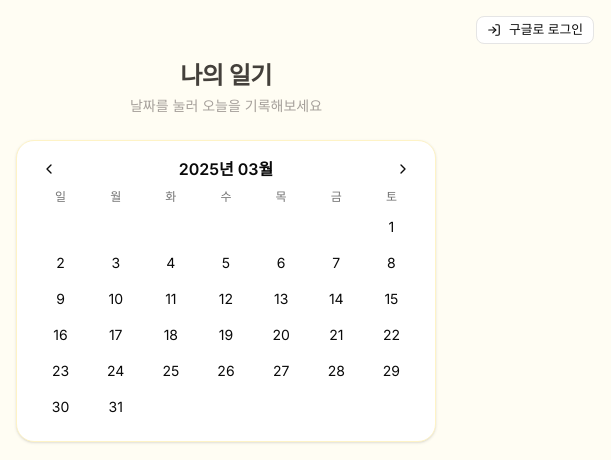
Test case: DIARY-011: 캘린더 이전/다음 월 이동 › 3월 캘린더에서 이전 달 버튼을 클릭하면 2월 캘린더로 전환되고 2025-02-14에 dot 표시가 나타난다
// 이전 달 버튼 클릭
Click the button named "이전" at (49, 169), box x1=37 y1=157 x2=61 y2=181
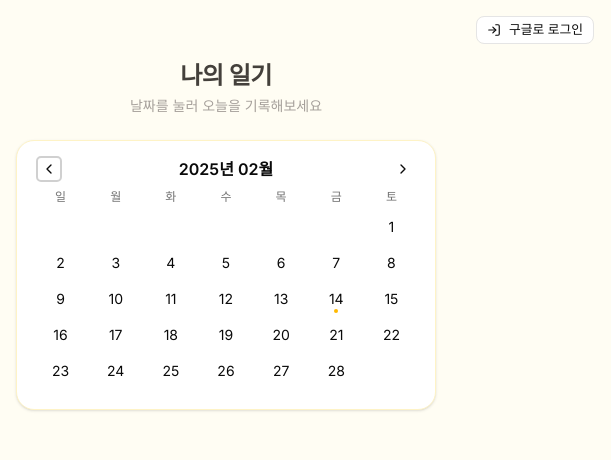
Expected: the text "2025년 02월" is shown, x1=179 y1=157 x2=273 y2=181
Expected: the element with test id "diary-dot-2025-02-14" is shown, x1=334 y1=309 x2=338 y2=313
